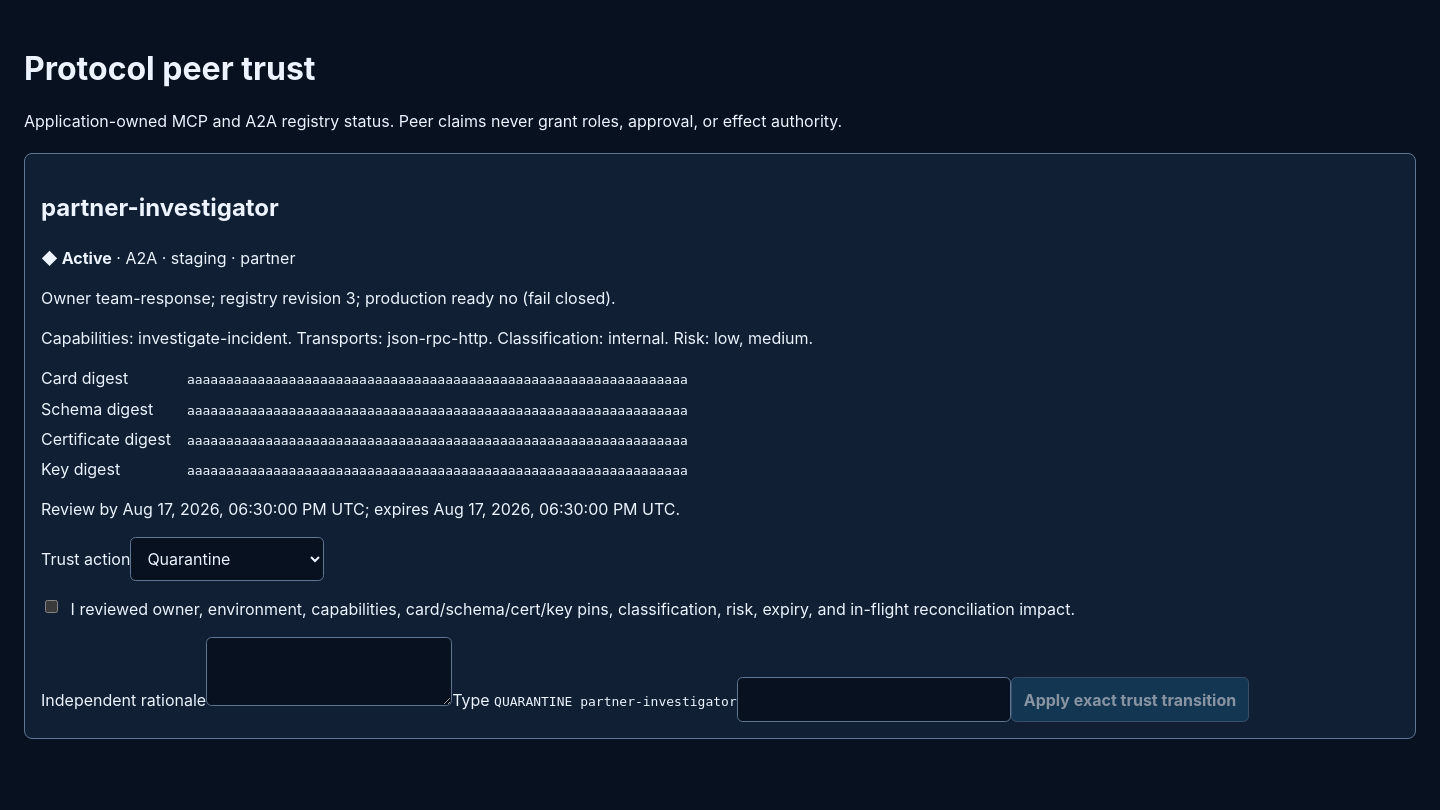
Test: WCAG automated baseline › requires exact protocol trust review before one mutation
Expected: the text "production ready no (fail closed)" is shown, [41,288,616,308]
Expected: the button "Apply exact trust transition" is disabled, [1011,677,1249,722]
Select "Revoke" in the dropdown labelled "Trust action" at (227, 559), box [130,537,324,581]
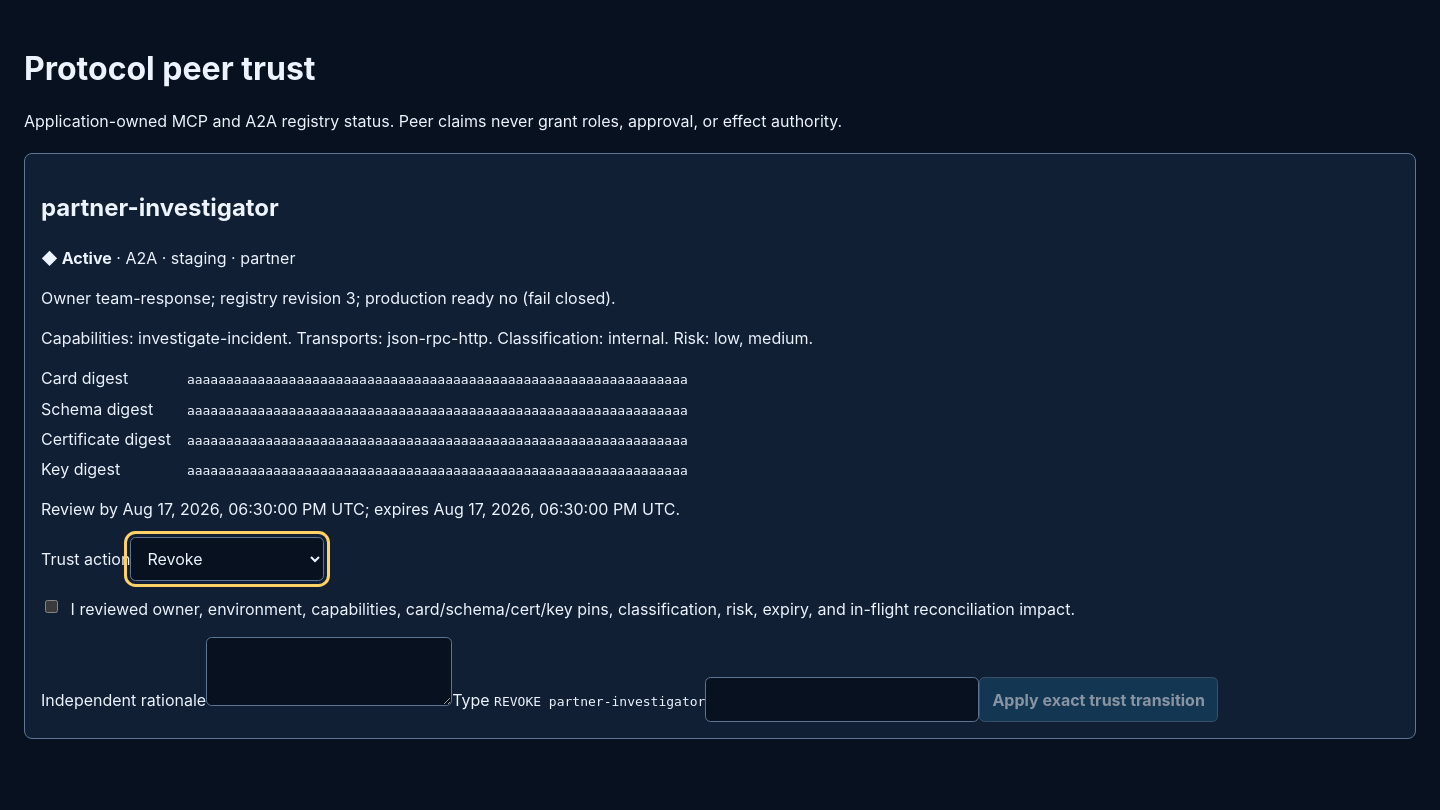
Click the checkbox at (52, 606), box [45,600,58,613]
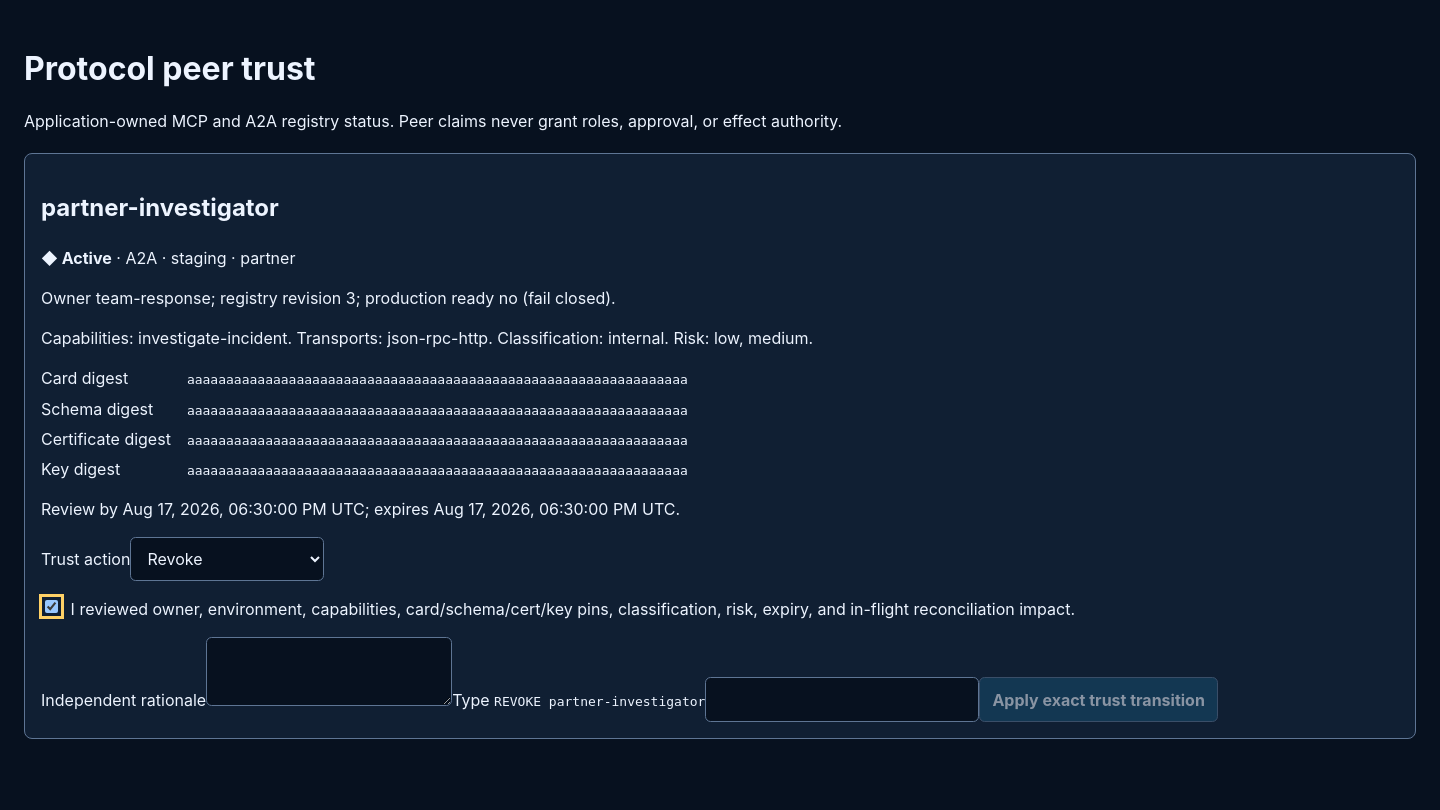
Type "Verified card and schema drift requires revocation." into the text box labelled "Independent rationale" at (329, 671), box [206,637,452,706]
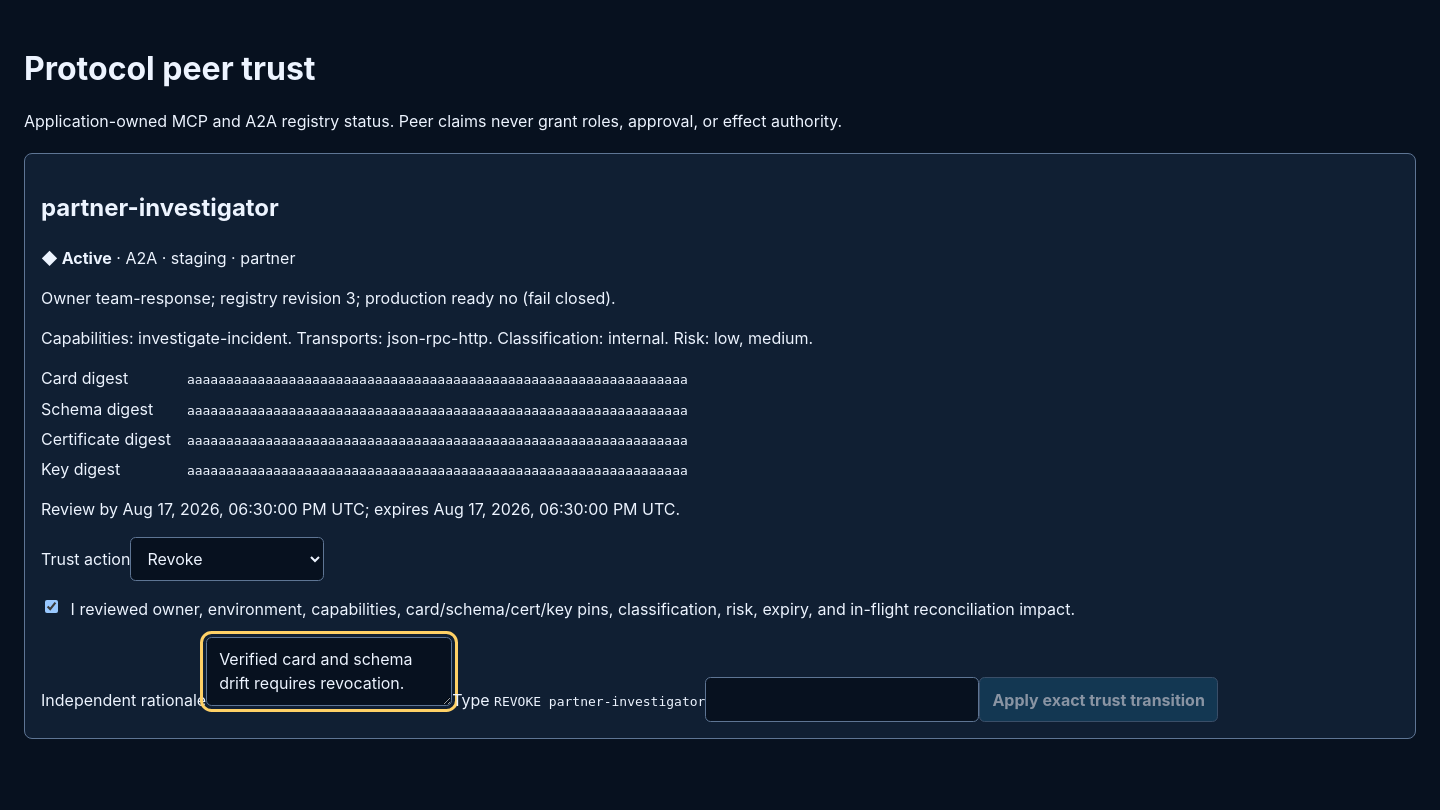
Type "REVOKE partner-investigator" into the field labelled "Type REVOKE partner-investigator" at (842, 700), box [705,677,979,722]
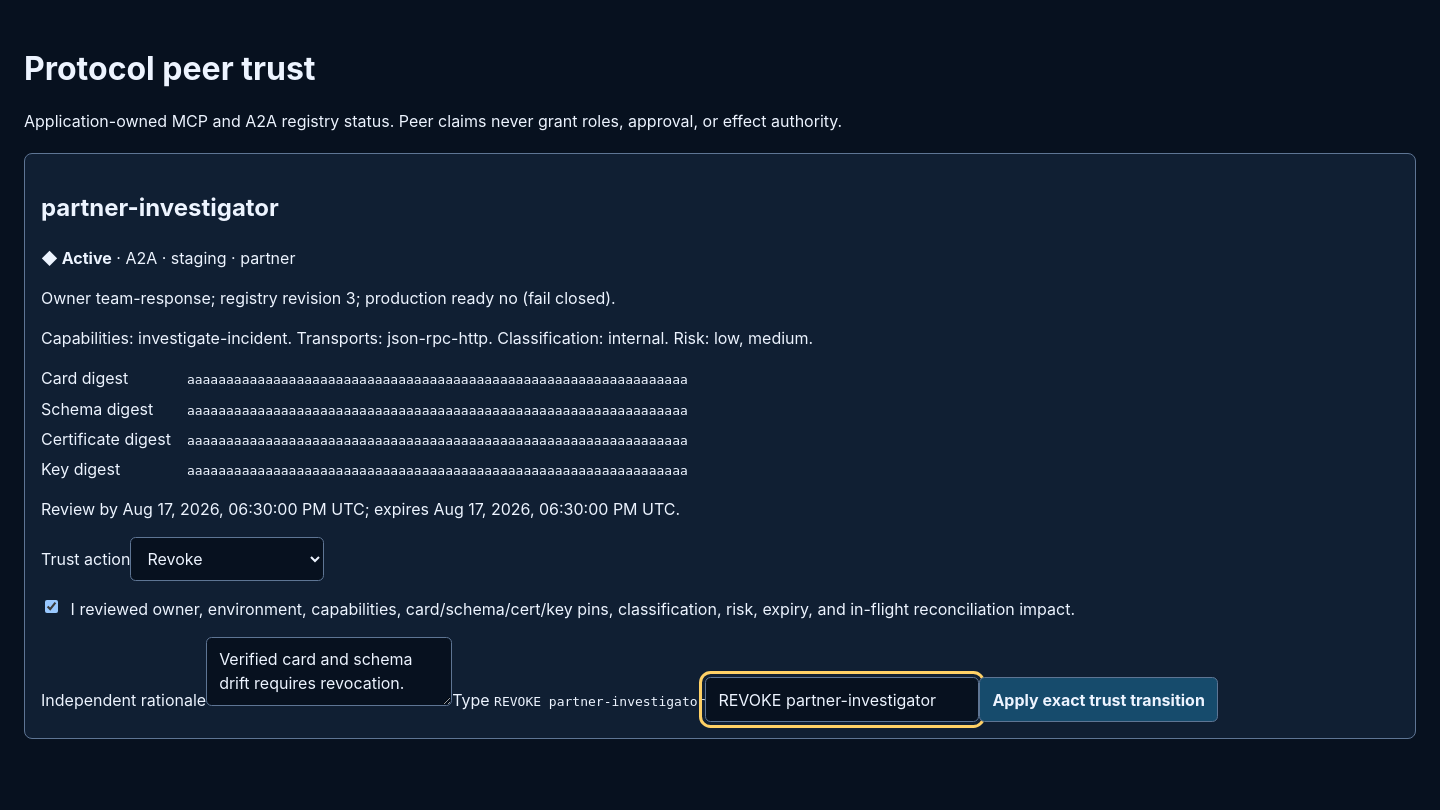
Click the button "Apply exact trust transition" at (1099, 700), box [979,677,1218,722]
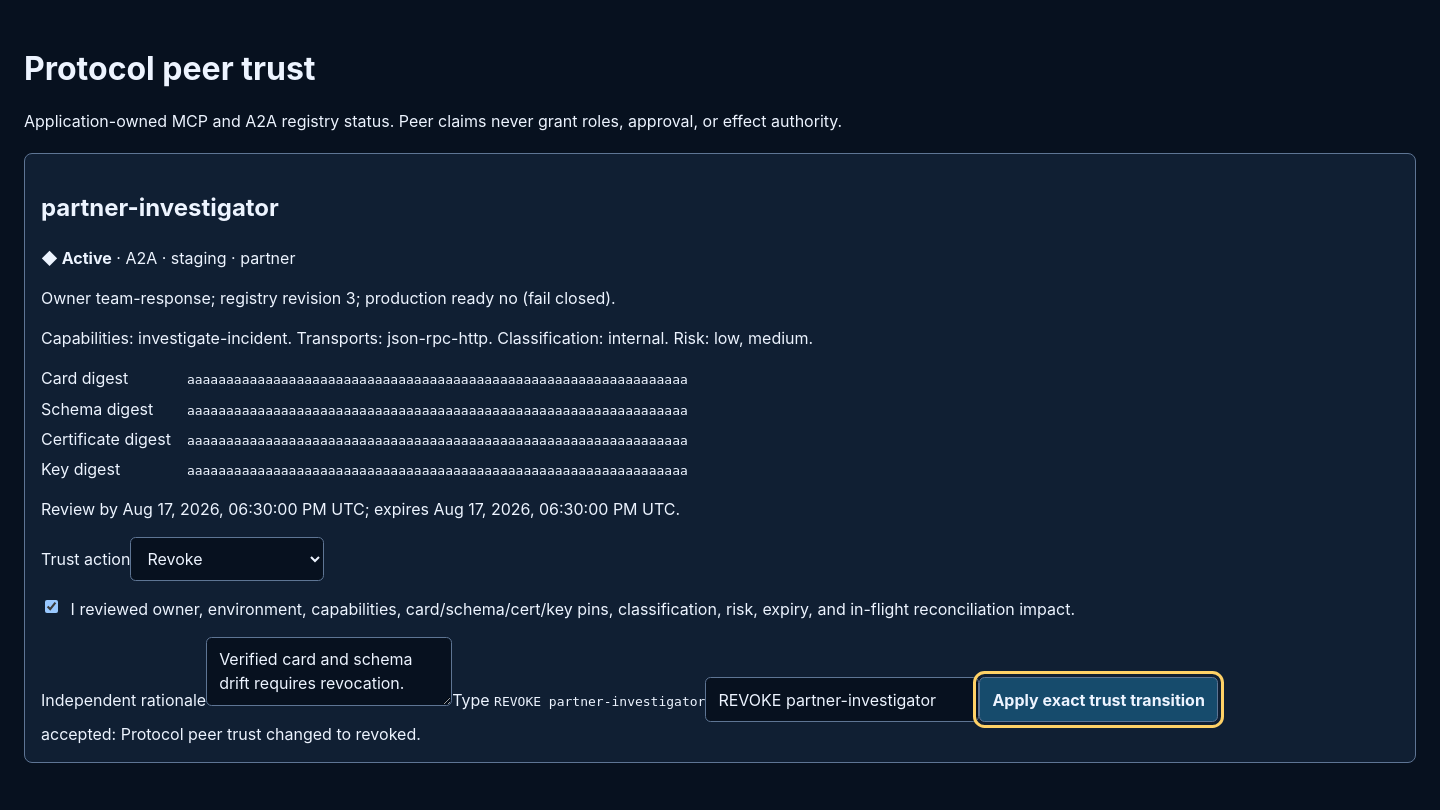
Result: the text "accepted: Protocol peer trust changed to revoked." is shown at [41,724,421,744]
